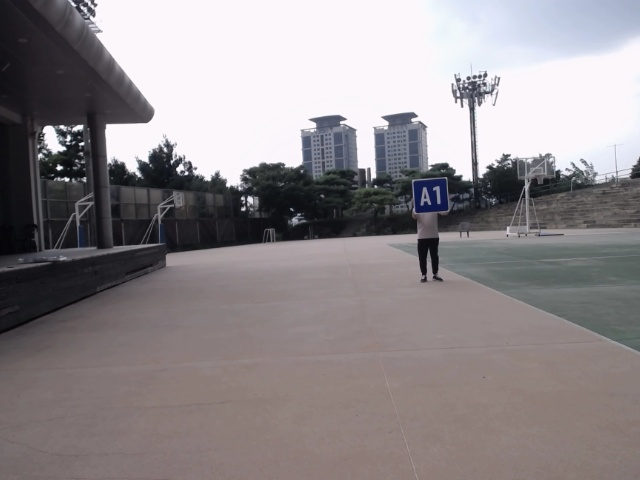delivery_a1: (413, 178, 449, 214)
